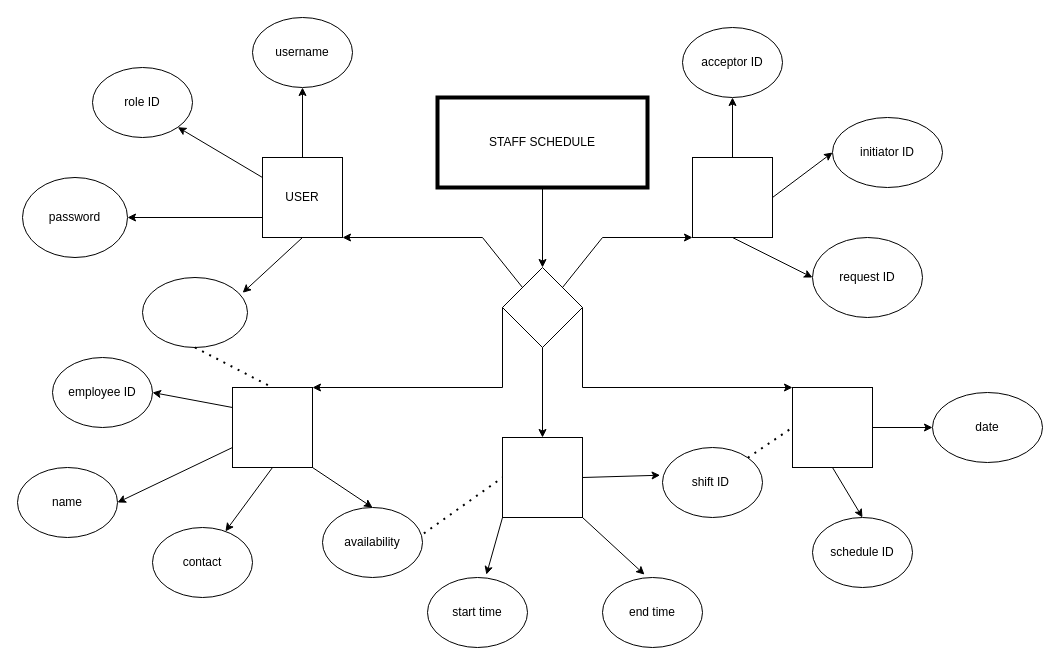
This 1060x665 diagram has some shape labels left out. The shapes that lost their labels are listed below. From the top down, each one's box as (x1, y1, x2, y2) in pixels, then its label:
(692, 156, 772, 238): SWAP REQUEST
(142, 276, 248, 348): user ID
(502, 266, 582, 348): has
(232, 386, 312, 468): EMPLOYEE
(792, 386, 872, 468): SCHEDULE
(502, 436, 582, 518): SHIFT
